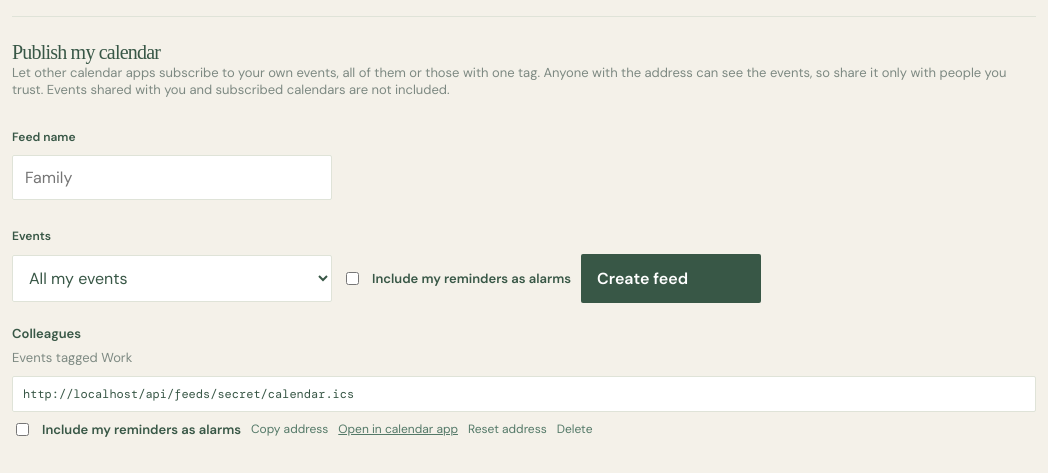
Scenario: FeedSettings › shows the address and manages the feed
Expected: the text "Events tagged Work" is shown, [12,349,132,366]
What coordinates should you click on to do the following:
click the checkbox labelled "Include my reminders as alarms" in the row of "Open in calendar app"
I would click on:
 (22, 429)
Its box is [16,422,29,436].
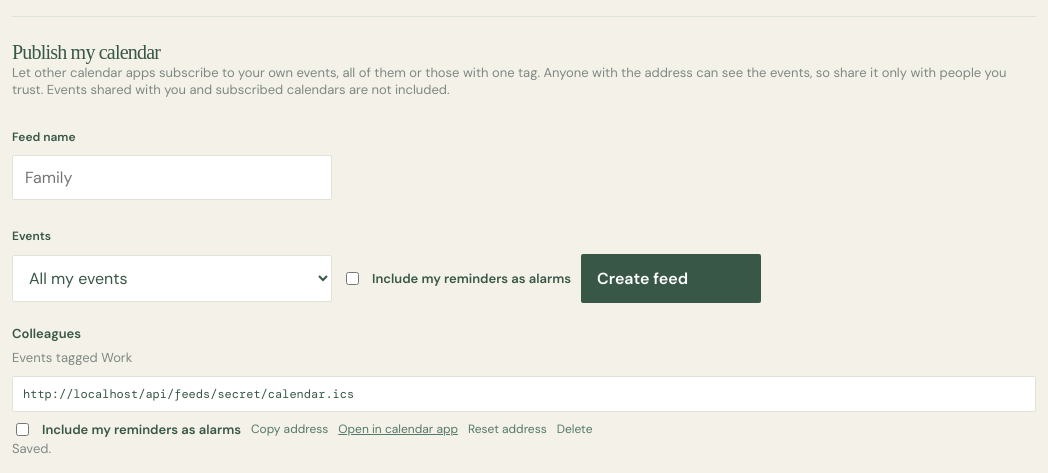
Expected: the text "Saved." is shown, [12,440,51,456]
What coordinates should you click on to do the following:
click the button "Reset address"
I would click on:
 (507, 429)
Its box is [468,421,547,437].
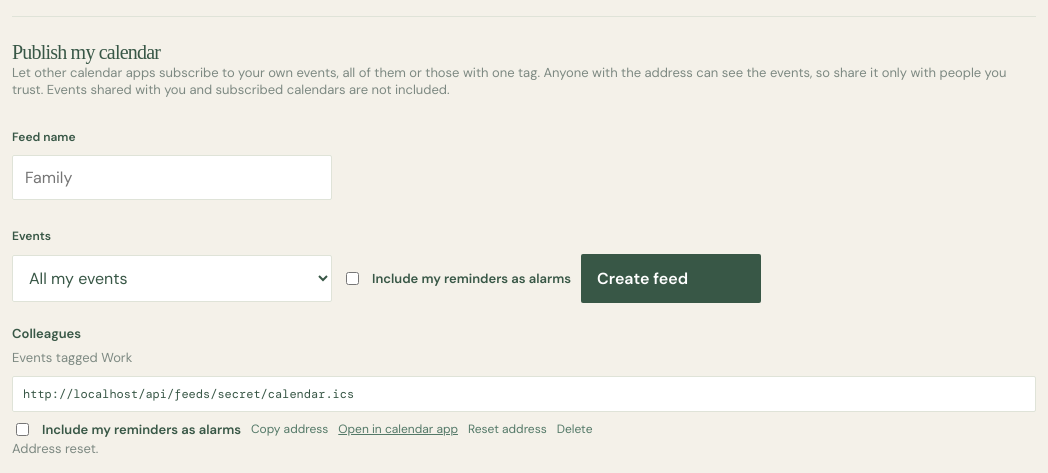
Expected: the text "Address reset." is shown, [12,440,98,456]
What coordinates should you click on to do the following:
click the button "Delete"
I would click on:
 (575, 429)
Its box is [557,421,592,437].
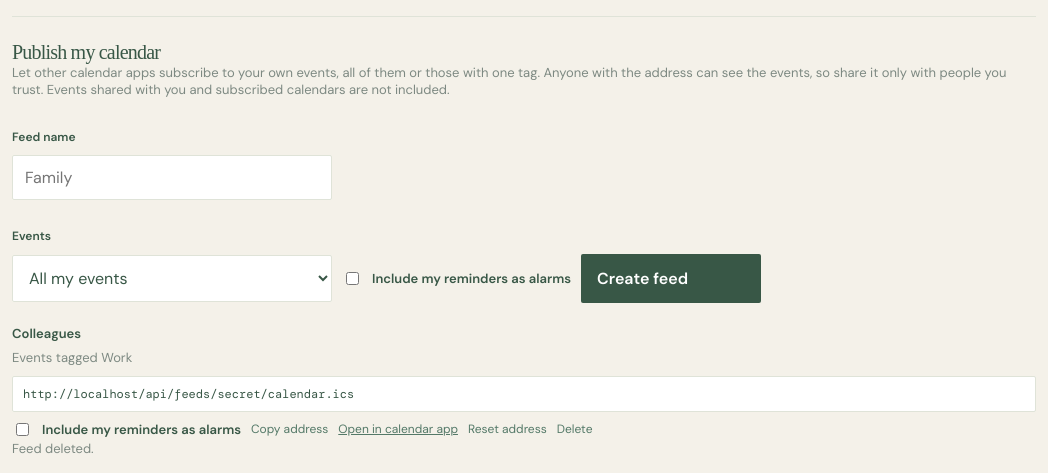
Expected: the text "Feed deleted." is shown, [12,440,94,456]
